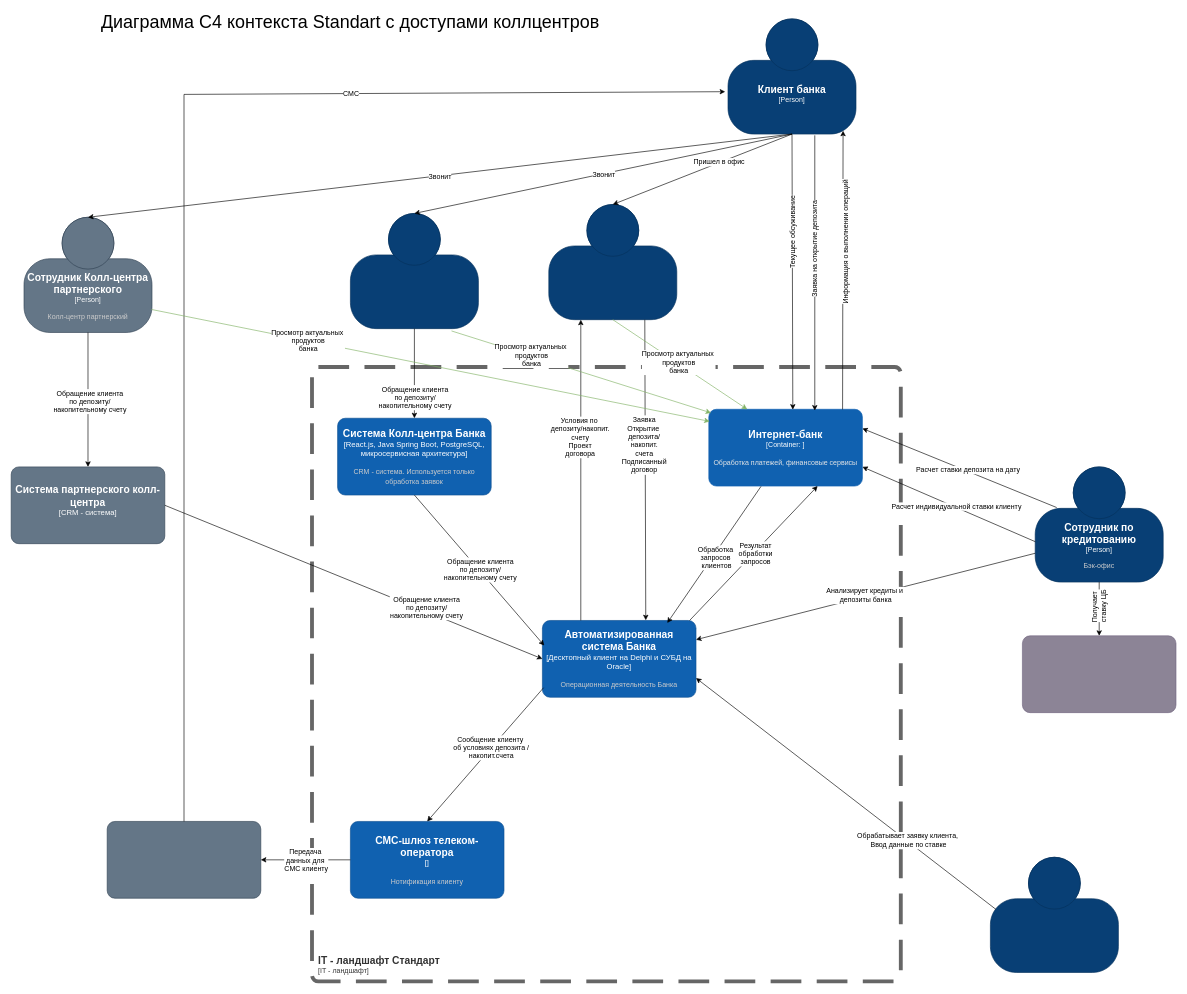
Image size: 1187x994. Some labels were removed from this diagram. Here are the shapes that lost their labels. From the top down, the centre of each, then its label:
point (414, 271): Сотрудник Колл-центра Банка [Person] Колл-центр Банка
point (612, 262): Сотрудник фронт-офиса [Person] Фронт-офис
point (1099, 674): Информационный ресурс ЦБ [Сайт, файл] Ставка ЦБ на дату
point (184, 859): Система Телеком оператора [] Отправляет СМС клиенту
point (1054, 914): Сотрудник по депозитам [Person] Бэк-офис
